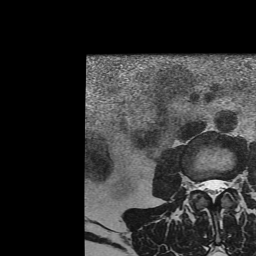CCS_normal: (208, 171, 217, 208)
LFS_normal: (226, 170, 234, 197)
LLS_normal: (217, 170, 226, 201)
RFS_normal: (191, 171, 200, 196)
RLS_normal: (200, 172, 208, 199)
